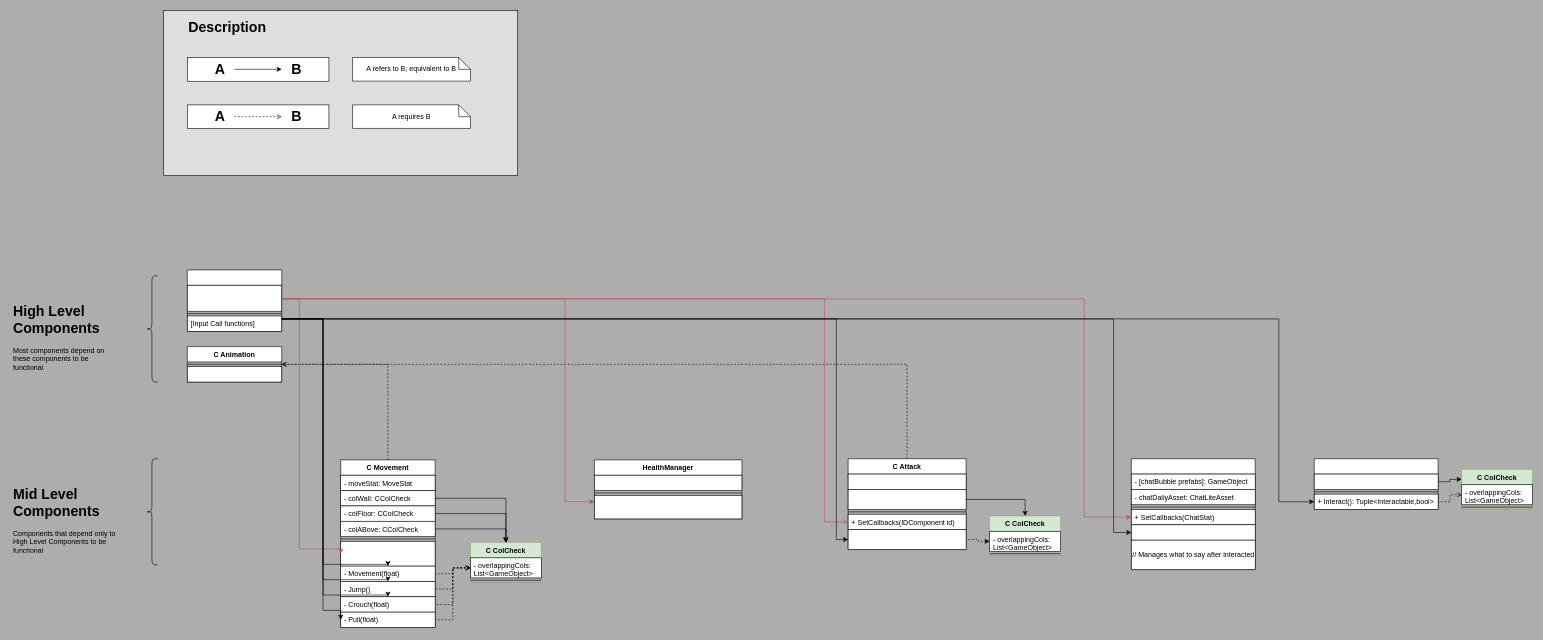
This 1543x640 diagram has some shape labels left out. The shapes that lost their labels are listed below. From the top down, each one's box as (x1, y1, x2, y2) in pixels, then its label:
(187, 285, 282, 311): - id: IDComponent // provides stats
(187, 269, 282, 331): C Brain
(187, 366, 282, 382): - PlayAnimation()
(594, 475, 742, 491): - health: float
(848, 473, 966, 489): - [Attack properties]
(848, 489, 966, 509): - colAttack: CColCheck
(1314, 473, 1438, 489): - colCheck: CColCheck
(1314, 458, 1438, 509): C Interactor
(594, 495, 742, 519): + SetCallbacks(IDComponent id) // Set initial health
(1131, 458, 1255, 570): C ChatManager
(848, 529, 966, 550): - Attack()
(1131, 524, 1255, 540): - [Insert Bubbles(string)]
(340, 541, 435, 566): + SetCallbacks(IDComponent , ..)
